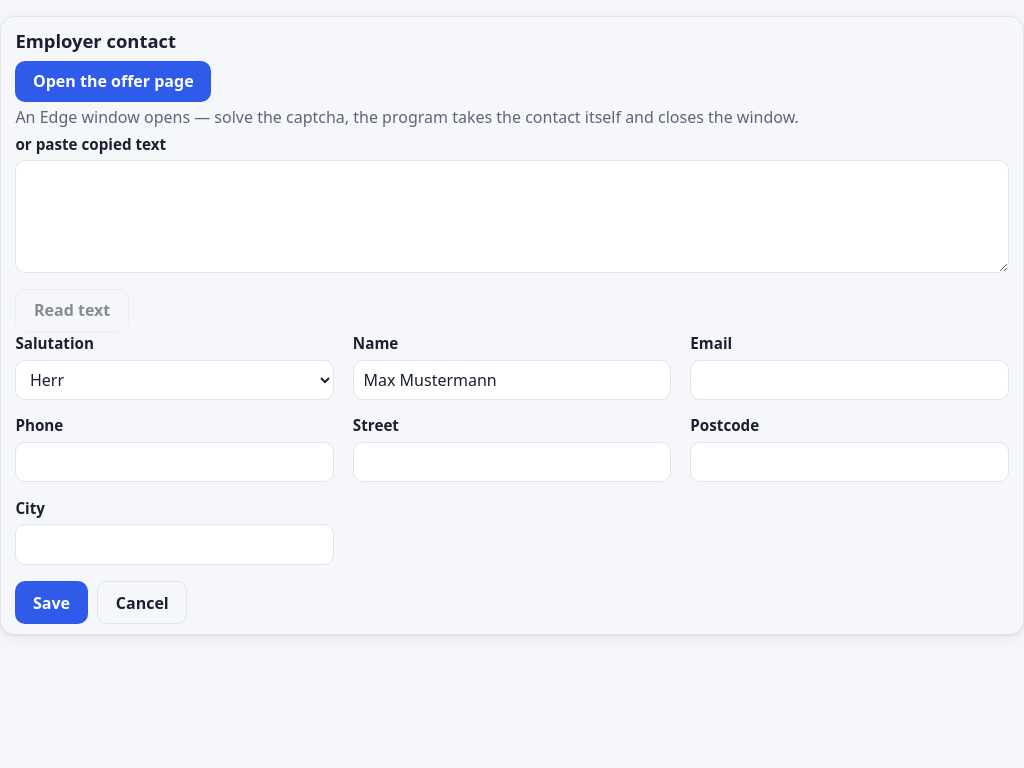
it: ContactDialog › a found name brings its own salutation ("—"), never the old Frau/Herr
Click the button "Open the offer page": (113, 81) [15,61,211,102]
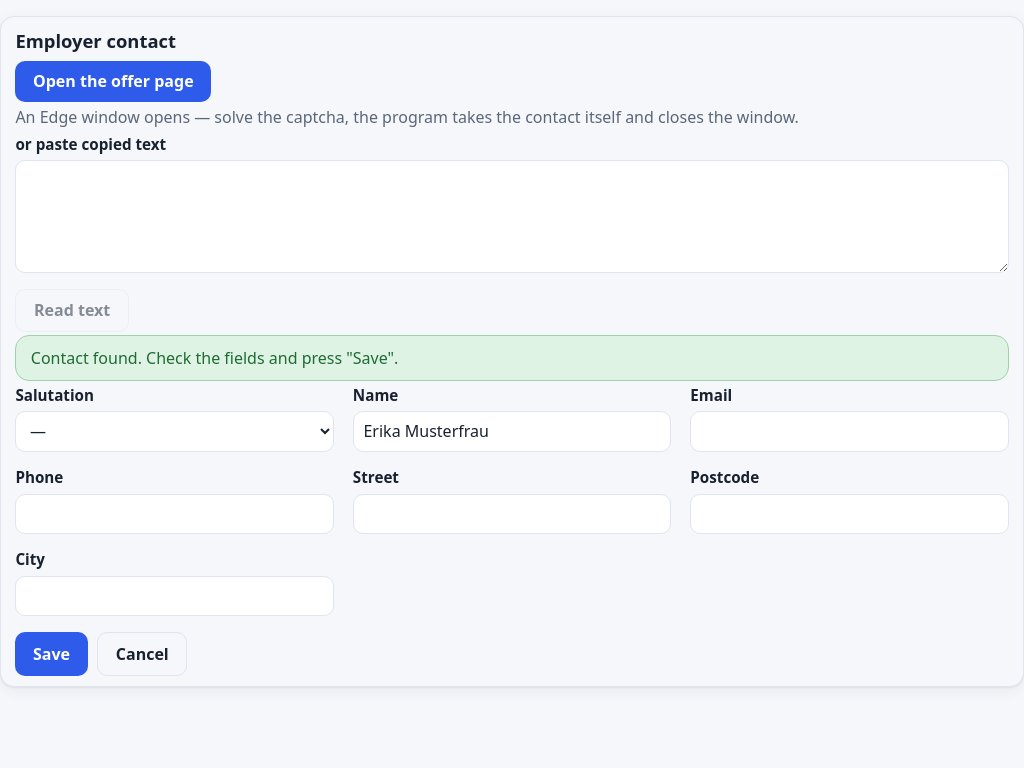
Expected: the text "Contact found. Check the fields and press \"Save\"." is shown, [15,335,1009,380]
Expected: the field labelled "Name" holds "Erika Musterfrau", [353,411,671,452]
Expected: the dropdown labelled "Salutation" shows "—", [15,411,334,452]
